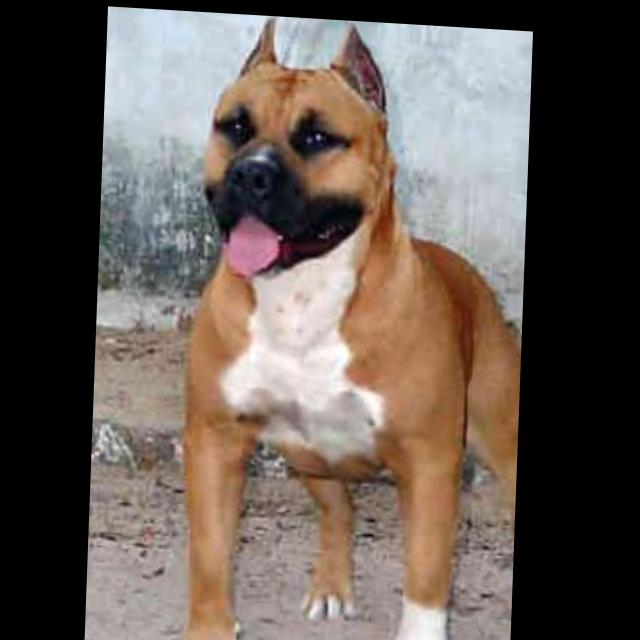amstaff: (178, 10, 534, 640)
